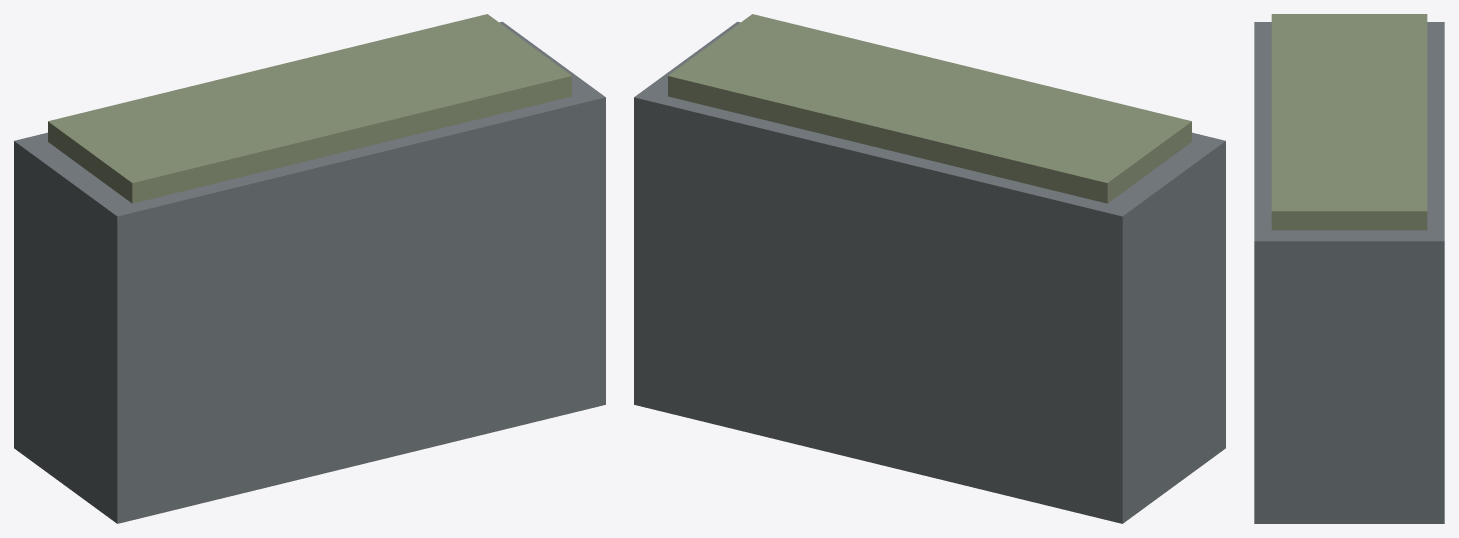
File: iz2_district_tea_garden_partition.glb
3 renders of one model, left to right at view 1: azimuth 30°, elevation 25°; view 2: azimuth 150°, elevation 25°; view 3: azimuth 270°, elevation 25°, orthographic. The views are drawn at different scales.
Parts seen in each view (by area): view 1: body; view 2: body; view 3: body.
Boxes of the visible parts, x1=… form: body: x1=14, y1=14, x2=605, y2=523; body: x1=634, y1=14, x2=1225, y2=523; body: x1=1254, y1=14, x2=1444, y2=523.
Size of the model in its own units: 1.46 by 0.9384 by 0.5362.
